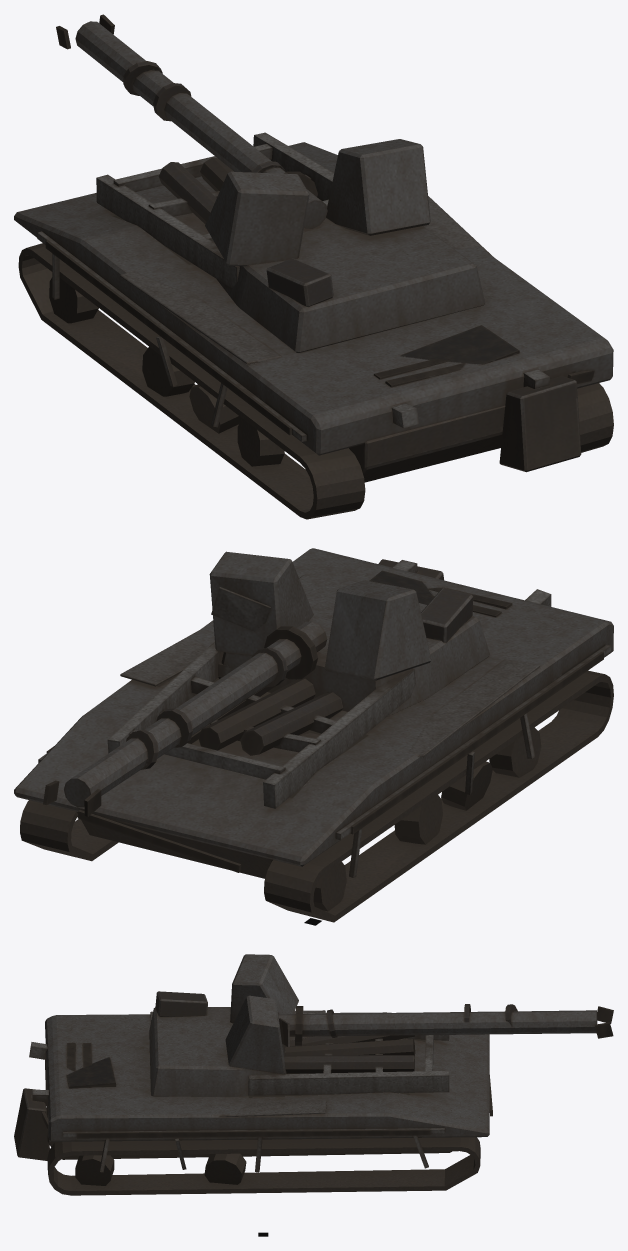
File: chs_hurler_wreck.fbx
The picture shows the model from 3 angles, top to bottom: view 1: azimuth 30°, elevation 25°; view 2: azimuth 150°, elevation 25°; view 3: azimuth 270°, elevation 25°; orthographic projection. The views are drawn at different scales.
Visible parts, largest first — view 1: base_bar, turret_bar, trackL_bar, barrel_bar, trackR_bar; view 2: base_bar, turret_bar, trackL_bar, barrel_bar, trackR_bar; view 3: base_bar, trackR_bar, turret_bar, barrel_bar.
Part boxes in pixels (box(x1,y1,x2,y2)): base_bar: box(14, 132, 613, 482); turret_bar: box(205, 139, 485, 352); trackL_bar: box(18, 243, 365, 519); barrel_bar: box(56, 14, 327, 228); trackR_bar: box(577, 383, 613, 452); base_bar: box(14, 548, 613, 878); turret_bar: box(209, 551, 489, 717); trackL_bar: box(264, 670, 613, 922); barrel_bar: box(43, 621, 327, 816); trackR_bar: box(20, 800, 118, 861); base_bar: box(14, 1010, 492, 1172); trackR_bar: box(47, 1137, 480, 1195); turret_bar: box(149, 954, 298, 1096); barrel_bar: box(278, 1004, 613, 1045).
Bounding box in the file's own units: 544 × 566 × 1224.
Materials: 2 (2 with a texture image).
